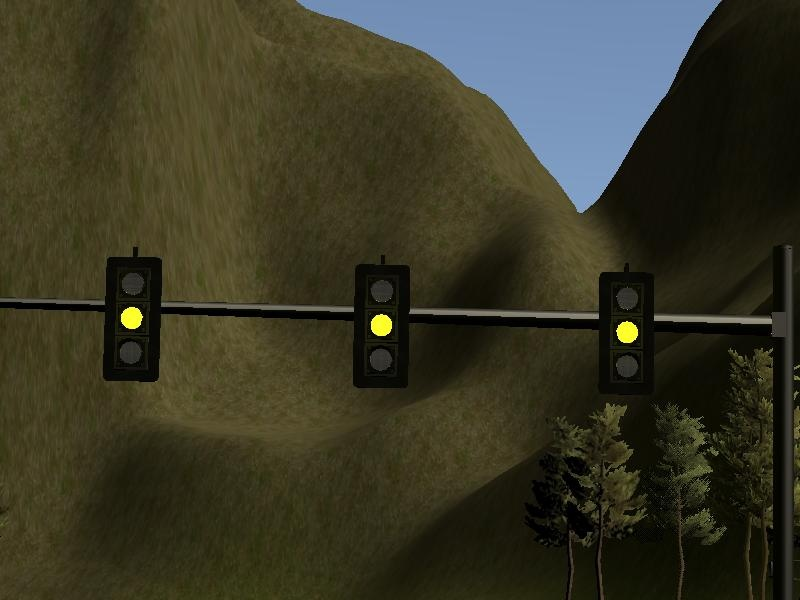YELLOW: (103, 255, 162, 382), (350, 263, 409, 390), (598, 271, 657, 398)
